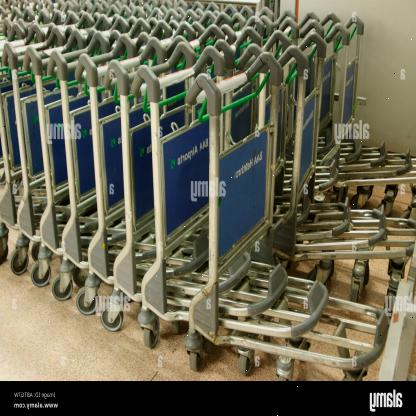airport-trolley: (184, 51, 388, 382), (262, 32, 416, 316), (132, 64, 200, 350), (325, 14, 416, 216)
